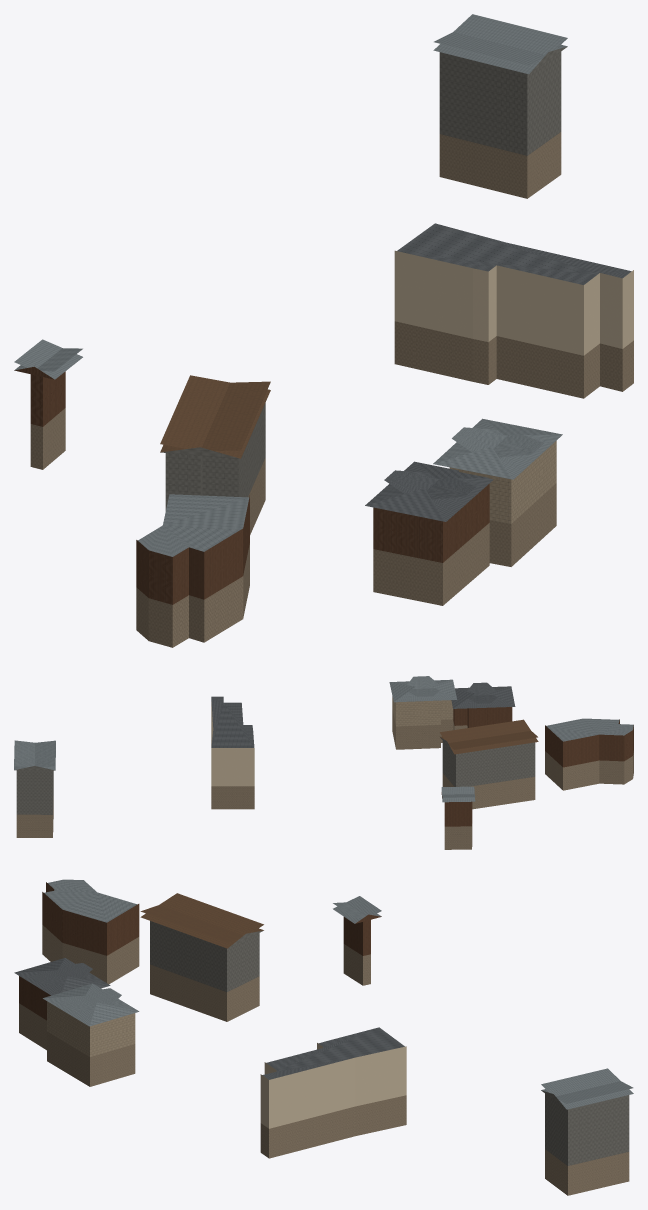
The model's file is bld_c42_47_190.gltf.
3 renders of one model, top to bottom at view 1: azimuth 30°, elevation 25°; view 2: azimuth 150°, elevation 25°; view 3: azimuth 270°, elevation 25°, orthographic. The views are drawn at different scales.
Visible parts, largest first — view 1: bld_c42_47_190; view 2: bld_c42_47_190; view 3: bld_c42_47_190.
Boxes of the visible parts, x1,y1,x2,y2 form: bld_c42_47_190: (14, 14, 633, 647); bld_c42_47_190: (14, 676, 633, 849); bld_c42_47_190: (14, 879, 633, 1195).
Size of the model in its own units: 97.2 by 18 by 96.29.
11 materials, 11 textured.
